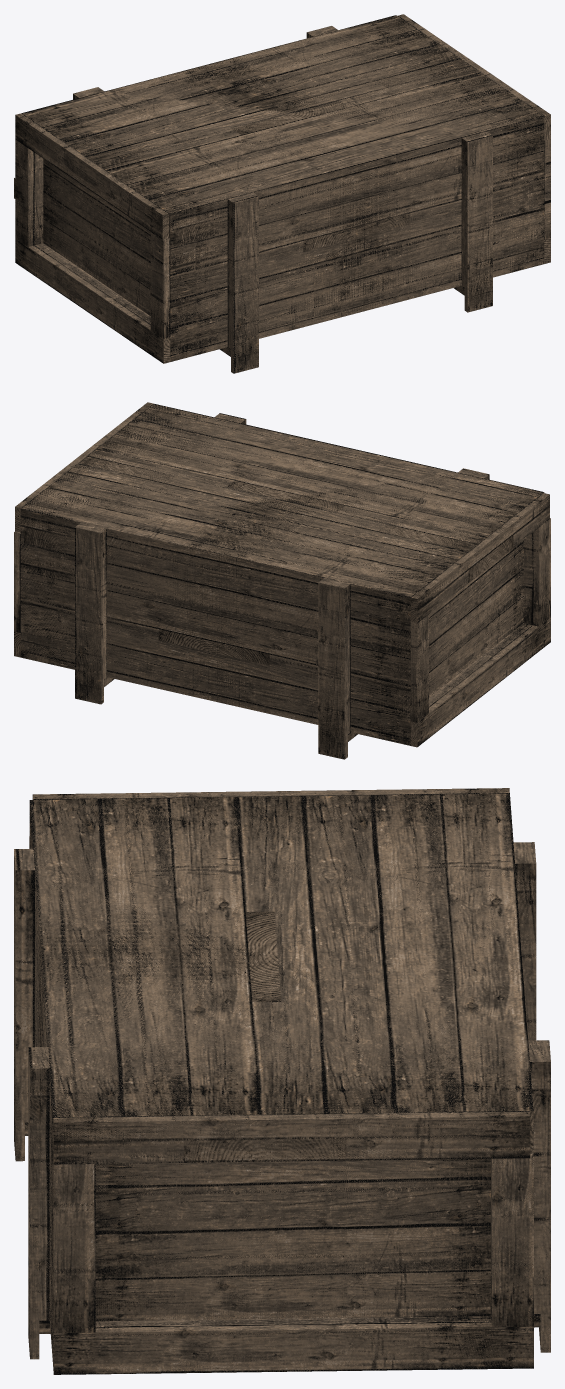
Rendered from Box_wood.fbx.
The picture shows the model from 3 angles, top to bottom: view 1: azimuth 30°, elevation 25°; view 2: azimuth 150°, elevation 25°; view 3: azimuth 270°, elevation 25°; orthographic projection. The views are drawn at different scales.
Visible parts, largest first — view 1: Group1; view 2: Group1; view 3: Group1.
Part boxes in pixels (left/top/right/bottom): Group1: left=14, top=14, right=550, bottom=373; Group1: left=14, top=402, right=550, bottom=759; Group1: left=14, top=788, right=550, bottom=1374.
Bounding box in the file's own units: 1387 × 562 × 940.
